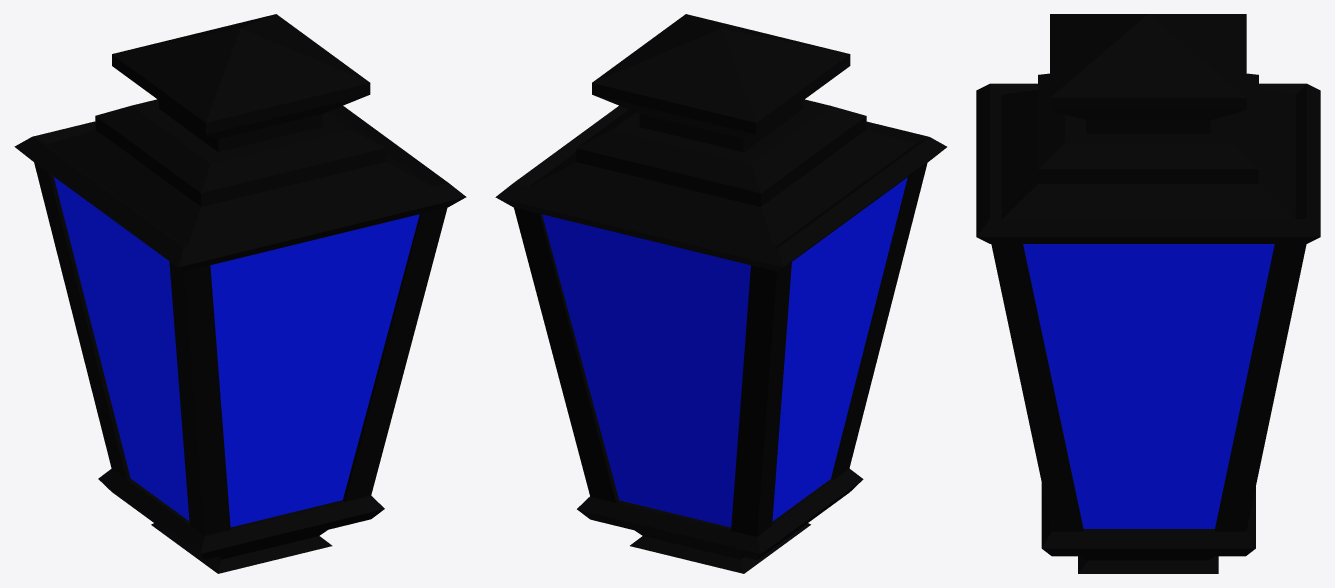
File: alarm_blue.glb
3 renders of one model, left to right at view 1: azimuth 30°, elevation 25°; view 2: azimuth 150°, elevation 25°; view 3: azimuth 270°, elevation 25°, orthographic. The views are drawn at different scales.
Visible parts, largest first — view 1: Torus.001; view 2: Torus.001; view 3: Torus.001.
Boxes of the visible parts, <box> form: Torus.001: <box>14,14,466,573</box>; Torus.001: <box>495,14,946,573</box>; Torus.001: <box>976,14,1320,573</box>.
Size of the model in its own units: 2.21 by 3.93 by 2.19.
